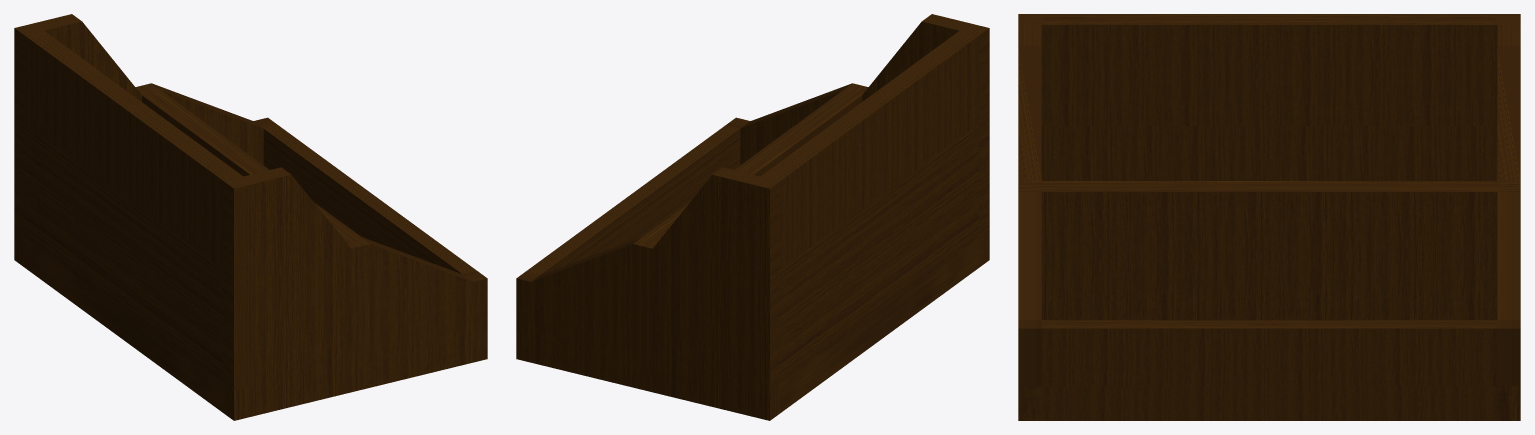
The model's file is Boucherdisplayed.fbx.
3 views of the same model, side by side, from view 1: azimuth 30°, elevation 25°; view 2: azimuth 150°, elevation 25°; view 3: azimuth 270°, elevation 25° (orthographic). The views are drawn at different scales.
Visible parts, largest first — view 1: displayed; view 2: displayed; view 3: displayed.
Boxes of the visible parts, box(x1,y1,x2,y2) form: displayed: box(14, 14, 487, 420); displayed: box(516, 14, 989, 420); displayed: box(1018, 14, 1520, 420).
Bounding box in the file's own units: 0.6662 × 0.5833 × 1.
